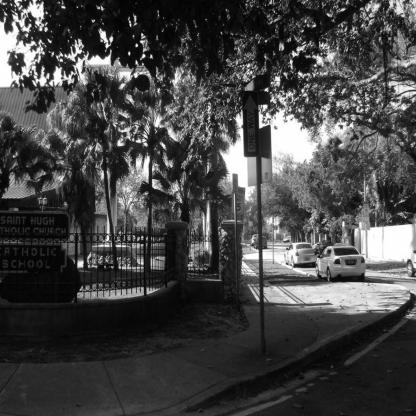Car: (315, 244, 370, 283), (287, 241, 318, 265), (405, 253, 416, 280), (252, 236, 268, 247)
